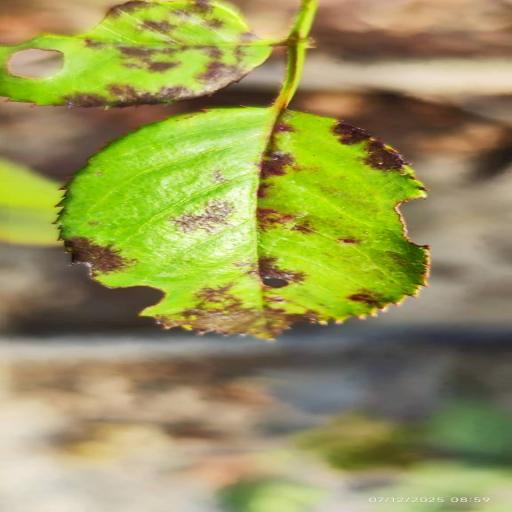black_spot: (60, 108, 428, 338)
